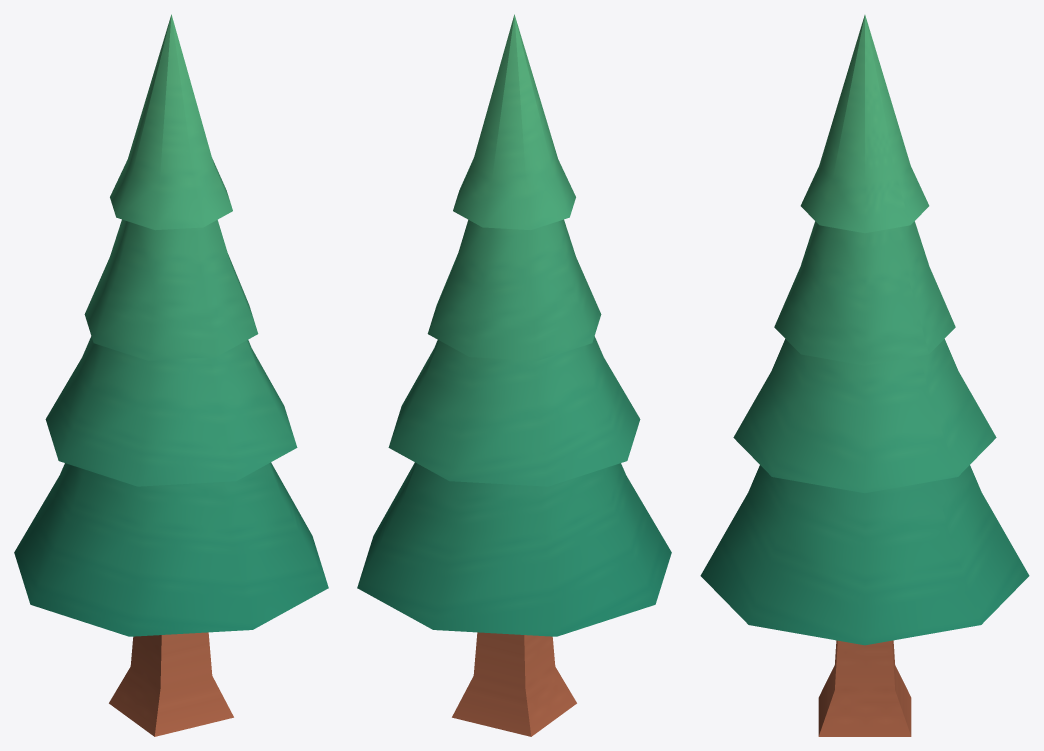
Rendered from tree.fbx.
The picture shows the model from 3 angles, left to right: view 1: azimuth 30°, elevation 25°; view 2: azimuth 150°, elevation 25°; view 3: azimuth 270°, elevation 25°; orthographic projection.
Visible parts, largest first — view 1: tree; view 2: tree; view 3: tree.
Part boxes in pixels (bbox=[...]): tree: bbox=[14, 14, 328, 736]; tree: bbox=[357, 14, 671, 736]; tree: bbox=[700, 15, 1029, 736].
Bounding box in the file's own units: 1.02 × 1.02 × 2.41.
